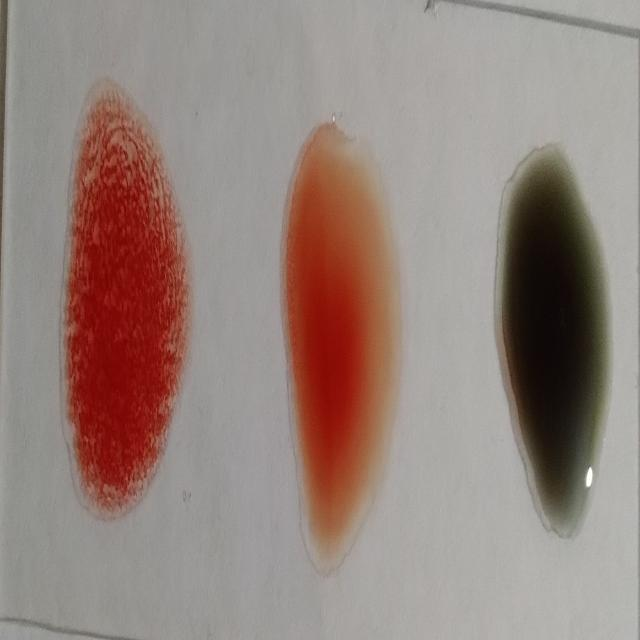D: (59, 112, 187, 512)
